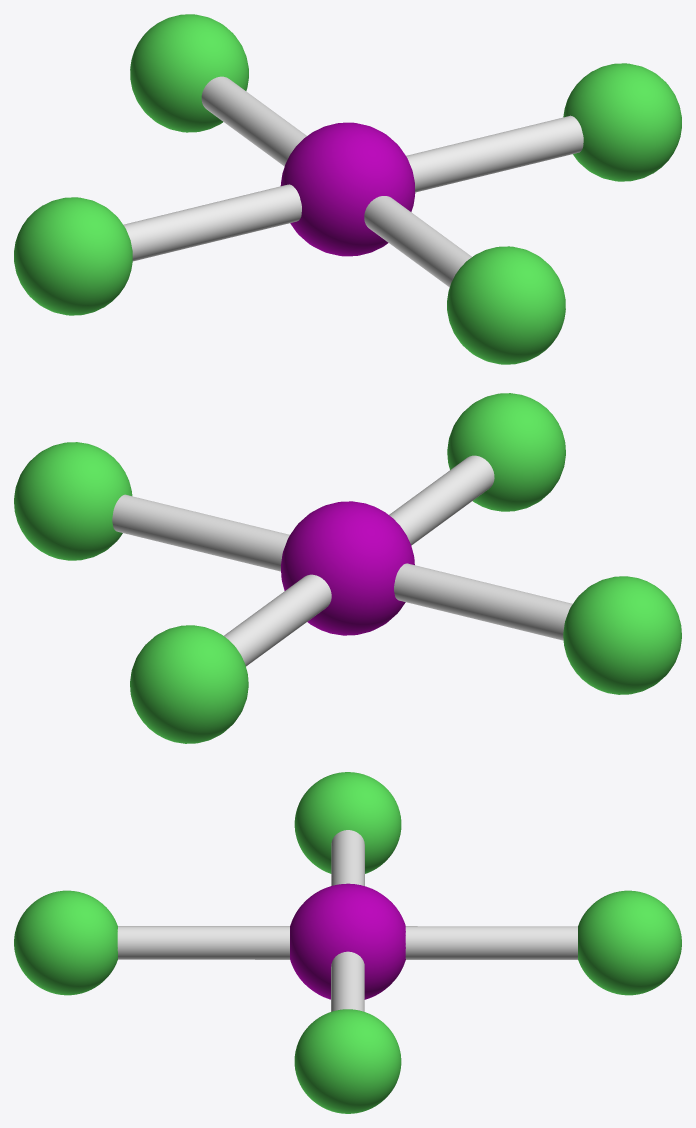
File: ICl4-.fbx
3 renders of one model, top to bottom at view 1: azimuth 30°, elevation 25°; view 2: azimuth 150°, elevation 25°; view 3: azimuth 270°, elevation 25°, orthographic. The views are drawn at different scales.
Visible parts, largest first — view 1: ICl4-; view 2: ICl4-; view 3: ICl4-.
Part boxes in pixels (x1,y1,x2,y2): ICl4-: [14, 14, 681, 364]; ICl4-: [14, 393, 681, 743]; ICl4-: [14, 772, 681, 1113].
Size of the model in its own units: 5.43 by 0.9645 by 5.45.
